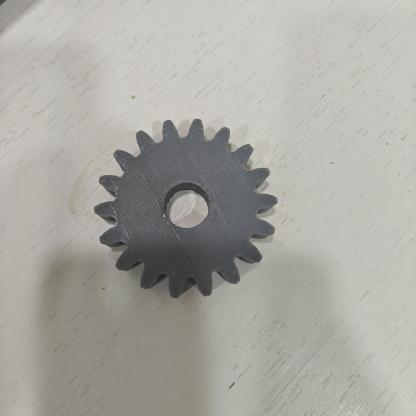gear: (95, 119, 278, 298)
